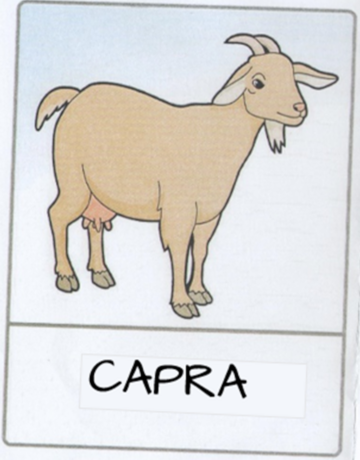capra: (27, 17, 341, 433)
